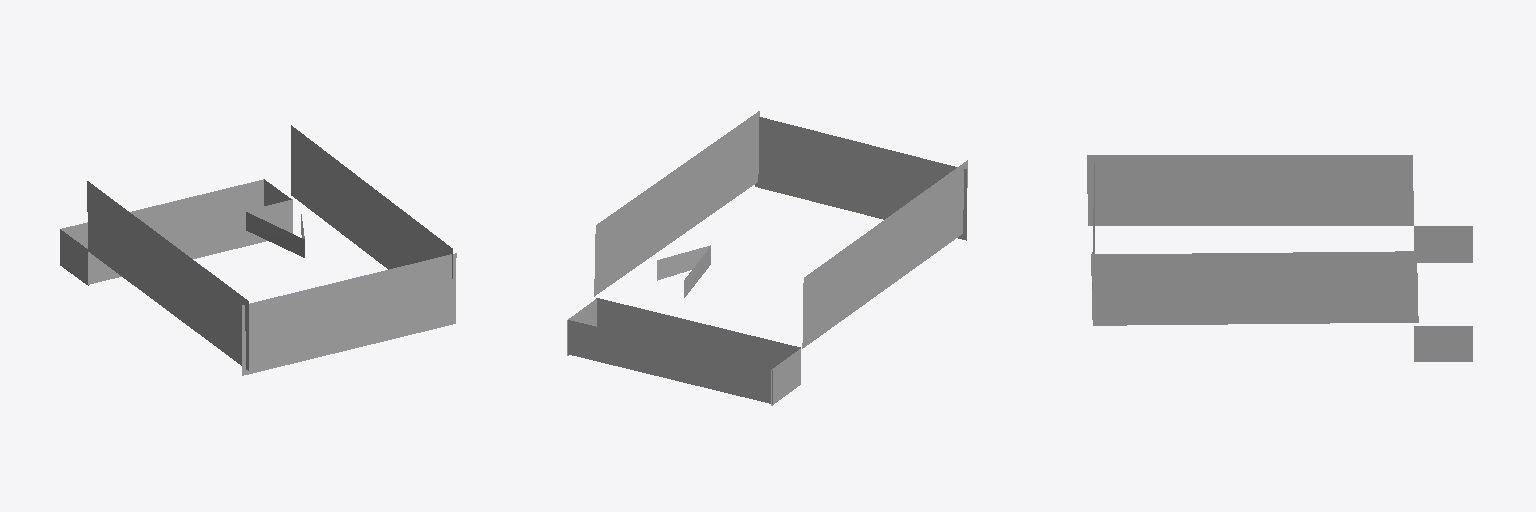
File: GameStageWall(1).obj
3 views of the same model, side by side, from view 1: azimuth 30°, elevation 25°; view 2: azimuth 150°, elevation 25°; view 3: azimuth 270°, elevation 25° (orthographic).
Visible parts, largest first — view 1: 平面.002, 平面.001, 平面, 平面.003, 平面.004, 平面.007, 平面.006; view 2: 平面.002, 平面, 平面.001, 平面.004, 平面.003, 平面.006, 平面.008; view 3: 平面, 平面.001, 平面.006, 平面.005.
Part boxes in pixels (bbox=[...]): 平面.002: bbox=[242, 253, 456, 375]; 平面.001: bbox=[87, 181, 248, 370]; 平面: bbox=[291, 125, 452, 278]; 平面.003: bbox=[88, 199, 292, 284]; 平面.004: bbox=[61, 179, 263, 248]; 平面.007: bbox=[246, 212, 304, 257]; 平面.006: bbox=[60, 229, 88, 285]; 平面.002: bbox=[755, 117, 966, 240]; 平面: bbox=[594, 111, 759, 296]; 平面.001: bbox=[802, 160, 967, 348]; 平面.004: bbox=[568, 320, 772, 403]; 平面.003: bbox=[596, 298, 800, 368]; 平面.006: bbox=[771, 349, 800, 405]; 平面.008: bbox=[657, 245, 710, 280]; 平面: bbox=[1091, 251, 1418, 325]; 平面.001: bbox=[1087, 155, 1413, 225]; 平面.006: bbox=[1414, 226, 1472, 262]; 平面.005: bbox=[1414, 326, 1472, 361].
Bounding box in the file's own units: 297 × 147 × 464.